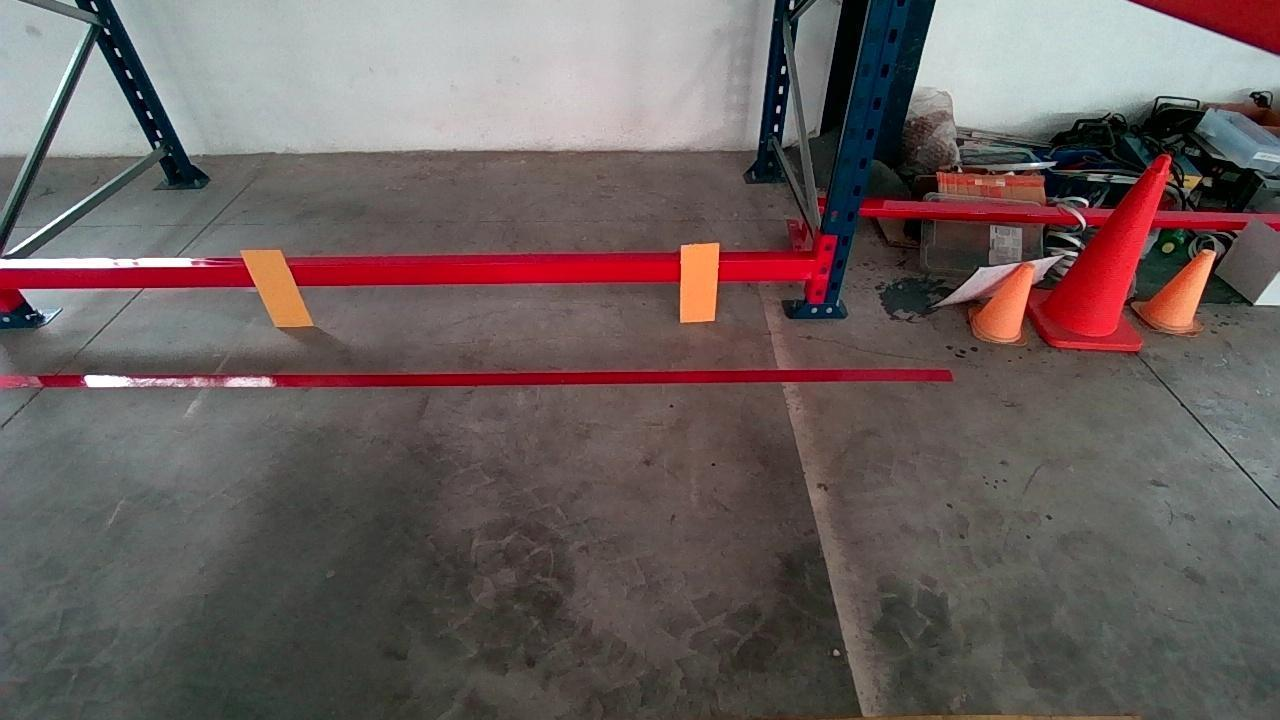h_rack: (10, 252, 818, 295)
orange_strip: (241, 248, 313, 328), (680, 242, 720, 320)
red_line: (10, 359, 946, 391)
